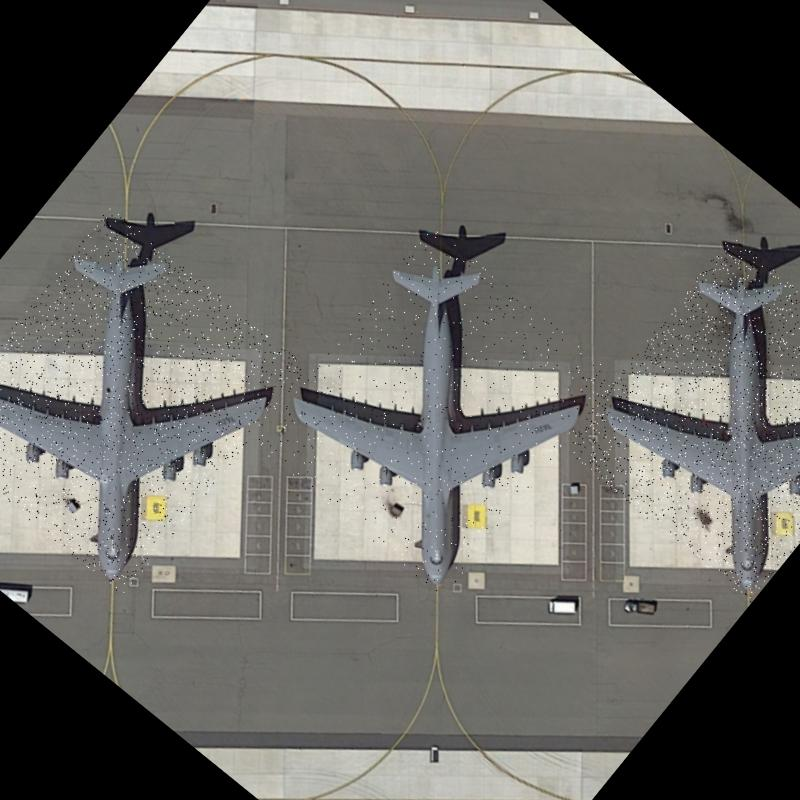A4: (252, 224, 620, 598), (0, 206, 308, 596), (558, 235, 800, 602)
